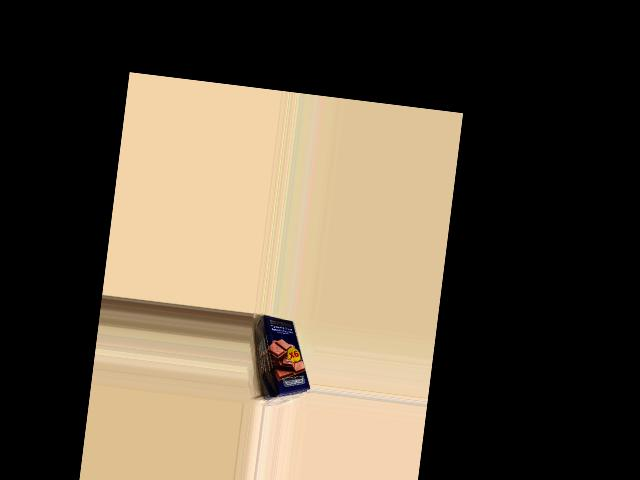chocolate: (249, 314, 319, 399)
